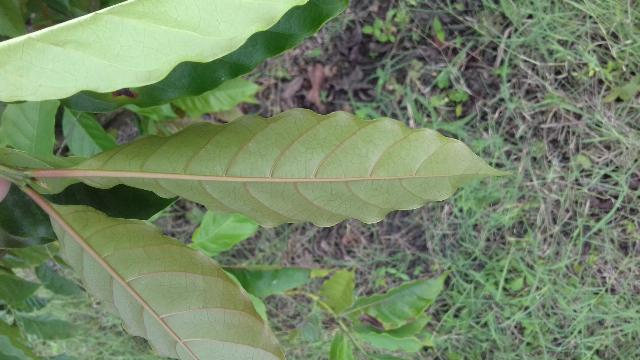healthy: (52, 102, 523, 229)
